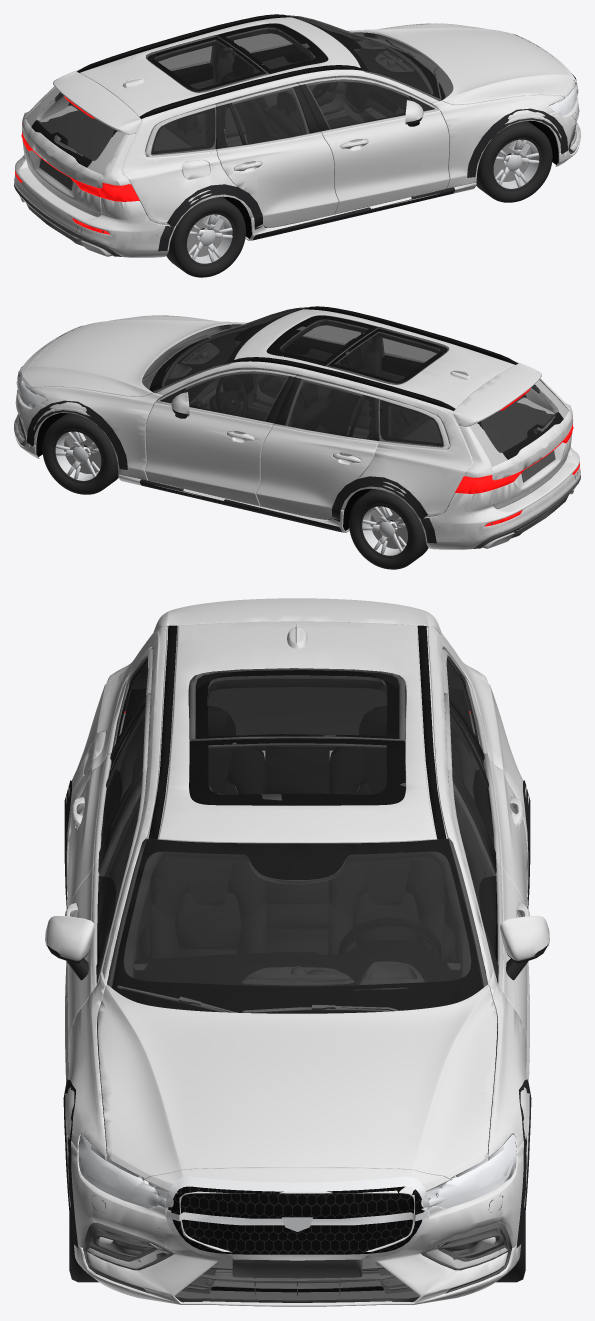
Rendered from subaro_outbuck.glb.
The picture shows the model from 3 angles, top to bottom: view 1: azimuth 30°, elevation 25°; view 2: azimuth 150°, elevation 25°; view 3: azimuth 270°, elevation 25°; orthographic projection. The views are drawn at different scales.
Parts seen in each view (by area): view 1: liner_trim, part_glass, part_roof, part_hood, part_door_fr, part_fender_fr, part_quarter_rr, part_door_rr, part_trunk, wheel_rr, wheel_fr, part_rear_bumper (+4 smaller); view 2: liner_trim, part_glass, part_roof, part_hood, part_door_fl, part_fender_fl, part_quarter_rl, part_door_rl, part_trunk, wheel_rl, wheel_fl, part_rear_bumper (+4 smaller); view 3: liner_trim, part_glass, part_hood, part_roof, part_front_bumper, core, part_fender_fr, part_fender_fl, part_quarter_rr, part_quarter_rl, headlight_r, headlight_l (+6 smaller).
Boxes of the visible parts, bbox=[...] form: liner_trim: bbox=[14, 14, 578, 256]; part_glass: bbox=[26, 16, 445, 174]; part_roof: bbox=[33, 17, 417, 169]; part_hood: bbox=[351, 24, 575, 99]; part_door_fr: bbox=[326, 117, 423, 216]; part_fender_fr: bbox=[417, 56, 574, 197]; part_quarter_rr: bbox=[99, 146, 258, 240]; part_door_rr: bbox=[251, 133, 333, 234]; part_trunk: bbox=[22, 73, 151, 223]; wheel_rr: bbox=[166, 197, 245, 277]; wheel_fr: bbox=[476, 121, 552, 202]; part_rear_bumper: bbox=[14, 155, 181, 257]; liner_trim: bbox=[16, 306, 580, 548]; part_glass: bbox=[149, 308, 568, 466]; part_roof: bbox=[176, 309, 561, 461]; part_hood: bbox=[19, 316, 243, 391]; part_door_fl: bbox=[171, 409, 268, 508]; part_fender_fl: bbox=[20, 348, 178, 489]; part_quarter_rl: bbox=[336, 438, 495, 532]; part_door_rl: bbox=[261, 425, 343, 526]; part_trunk: bbox=[443, 365, 572, 515]; wheel_rl: bbox=[349, 489, 428, 569]; wheel_fl: bbox=[42, 413, 118, 494]; part_rear_bumper: bbox=[413, 447, 580, 549]; liner_trim: bbox=[45, 625, 549, 1302]; part_glass: bbox=[98, 658, 496, 1013]; part_hood: bbox=[109, 926, 485, 1199]; part_roof: bbox=[107, 598, 487, 944]; part_front_bumper: bbox=[67, 1147, 527, 1306]; core: bbox=[168, 1186, 424, 1254]; part_fender_fr: bbox=[65, 932, 158, 1188]; part_fender_fl: bbox=[436, 934, 529, 1188]; part_quarter_rr: bbox=[66, 666, 129, 906]; part_quarter_rl: bbox=[465, 666, 528, 906]; headlight_r: bbox=[78, 1134, 173, 1244]; headlight_l: bbox=[421, 1134, 516, 1244].
Size of the model in its own units: 4.87 by 1.48 by 2.08.
Materials: 28 (1 with a texture image).
